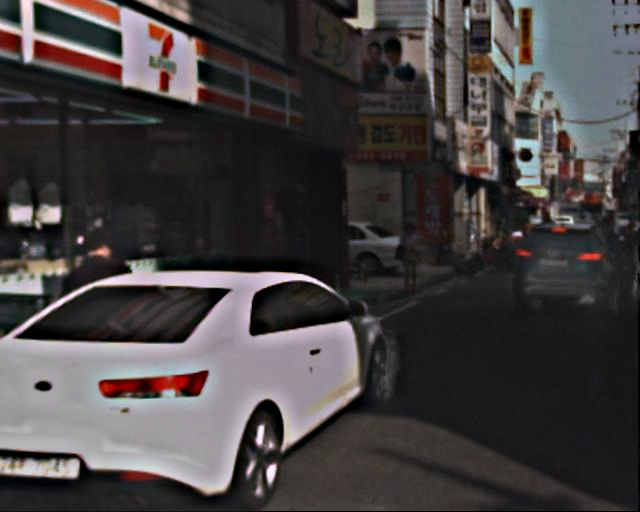person: (65, 229, 139, 380), (396, 220, 434, 296)
